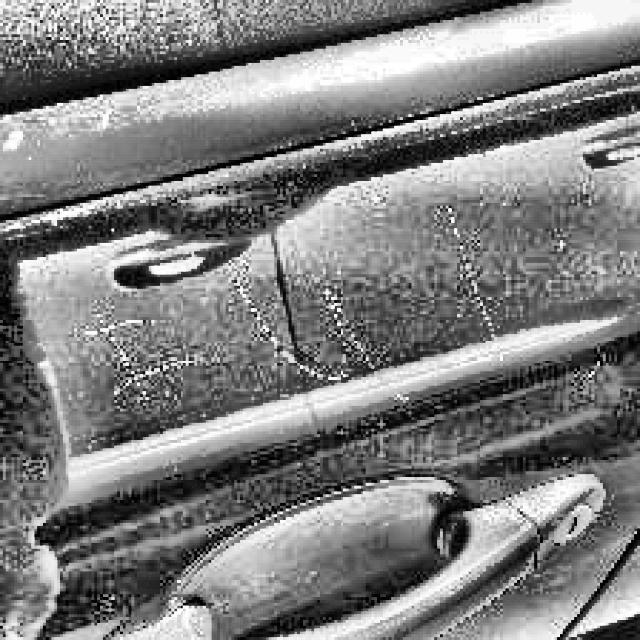door_scratch: (68, 221, 524, 415)
